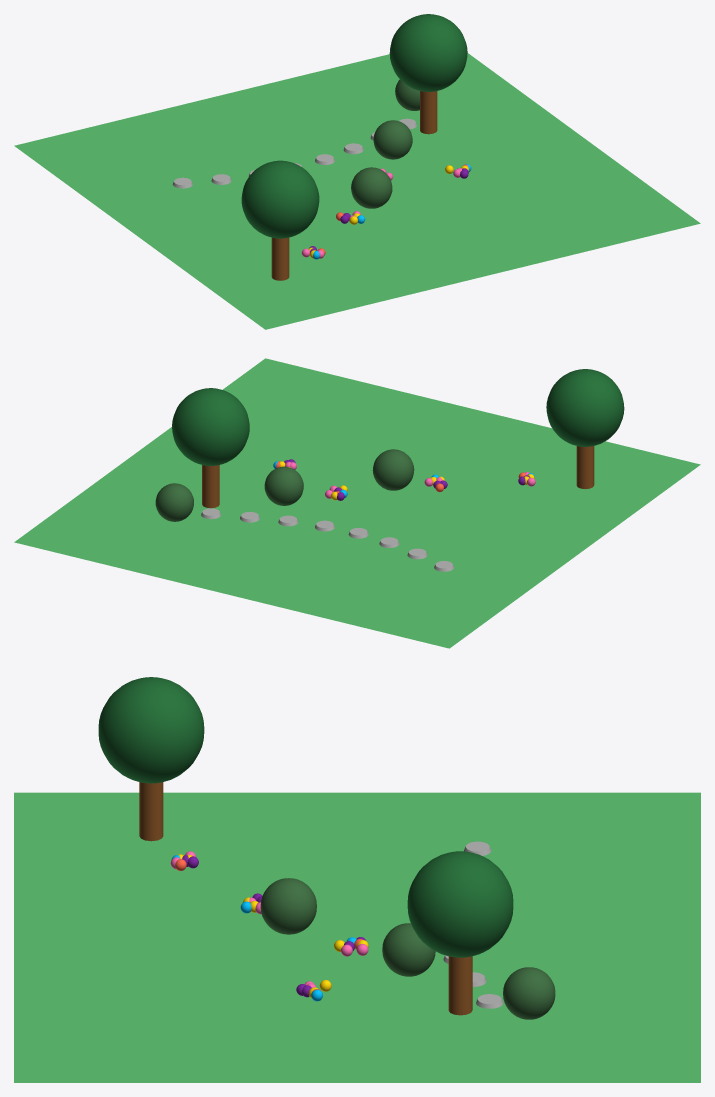
Rendered from 场景_2025-07-05T02-06-19_1752298317326_rhs6ab.glb.
3 renders of one model, top to bottom at view 1: azimuth 30°, elevation 25°; view 2: azimuth 150°, elevation 25°; view 3: azimuth 270°, elevation 25°, orthographic. The views are drawn at different scales.
Parts seen in each view (by area): view 1: dynamicObjects; view 2: dynamicObjects; view 3: dynamicObjects.
Part boxes in pixels (box(x1,y1,x2,y2)): dynamicObjects: box(14, 14, 700, 329); dynamicObjects: box(14, 358, 700, 648); dynamicObjects: box(14, 677, 700, 1082).
Size of the model in its own units: 40 by 10 by 40.
